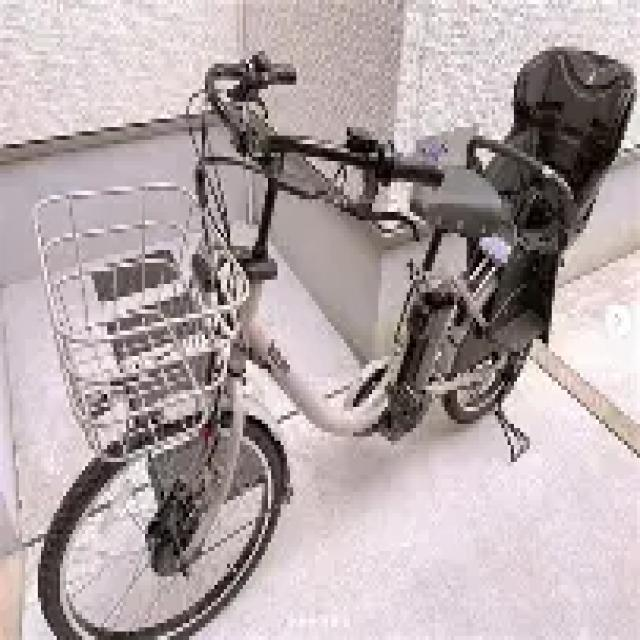basket: (27, 178, 246, 472)
battery: (399, 285, 453, 394)
childseat: (464, 43, 636, 345)
